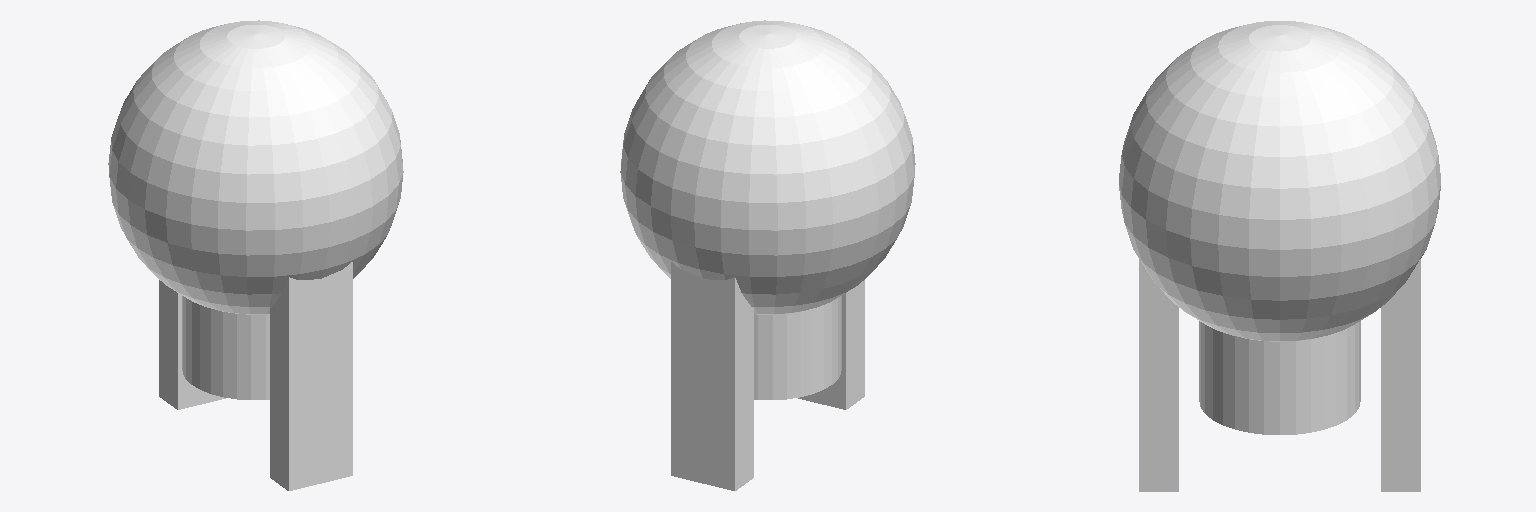
The robot description file, URDF, robot "r2d2":
<robot name="r2d2">

  <link name="axis">
    <visual>
      <origin xyz="0 0 0" rpy="1.57 0 0" />
      <geometry>
        <cylinder radius="0.01" length=".5" />
      </geometry>
      <material name="gray">
        <color rgba=".2 .2 .2 1" />
      </material>
    </visual>

    <collision>
      <origin xyz="0 0 0" rpy="1.57 0 0" />
      <geometry>
        <cylinder radius="0.01" length=".5" />
      </geometry>
      <!-- <contact_coefficients mu="0" kp="1000.0" kd="1.0"/> -->
    </collision>
  </link>

  <link name="leg1">
    <inertial>
      <mass value="1"/>
      <inertia ixx="1e-3" ixy="0" ixz="0" iyy="1e-3" iyz="0" izz="1e-3" />
      <origin/>
    </inertial>

    <visual>
      <origin xyz="0 0 -.3" />
      <geometry>
        <box size=".20 .10 .8" />
      </geometry>
      <material name="white">
        <color rgba="1 1 1 1"/>
      </material>
    </visual>

    <collision>
      <origin xyz="0 0 -.3" />
      <geometry>
        <box size=".20 .10 .8" />
      </geometry>
      <!-- <contact_coefficients mu="0" kp="1000.0" kd="1.0"/> -->
    </collision>
  </link>

  <joint name="leg1connect" type="fixed">
    <origin xyz="0 .30 0" />
    <parent link="axis"/>
    <child link="leg1"/>
  </joint>

  <link name="leg2">
    <inertial>
      <mass value="1"/>
      <inertia ixx="1e-3" ixy="0" ixz="0" iyy="1e-3" iyz="0" izz="1e-3" />
      <origin/>
    </inertial>

    <visual>
      <origin xyz="0 0 -.3" />
      <geometry>
        <box size=".20 .10 .8" />
      </geometry>
      <material name="white">
        <color rgba="1 1 1 1"/>
      </material>
    </visual>

    <collision>
      <origin xyz="0 0 -.3" />
      <geometry>
        <box size=".20 .10 .8" />
      </geometry>
      <!-- <contact_coefficients mu="0" kp="1000.0" kd="1.0"/> -->
    </collision>
  </link>

  <joint name="leg2connect" type="fixed">
    <origin xyz="0 -.30 0" />
    <parent link="axis"/>
    <child link="leg2"/>
  </joint>

  <link name="body">
    <inertial>
      <mass value="1"/>
      <inertia ixx="1e-3" ixy="0" ixz="0" iyy="1e-3" iyz="0" izz="1e-3" />
      <origin/>
    </inertial>

    <visual>
      <origin xyz="0 0 -0.2" />
      <geometry>
        <cylinder radius=".20" length=".6"/>
      </geometry>
      <material name="white"/>
    </visual>

    <collision>
      <origin xyz="0 0 0.2" />
      <geometry>
        <cylinder radius=".20" length=".6"/>
      </geometry>
      <!-- <contact_coefficients mu="0" kp="1000.0" kd="1.0"/> -->
    </collision>
  </link>

  <joint name="tilt" type="revolute">
    <parent link="axis"/>
    <child link="body"/>
    <origin xyz="0 0 0" rpy="0 0 0" />
    <axis xyz="0 1 0" />
    <limit upper="0" lower="-.5" effort="10" velocity="10" />
  </joint>

  <link name="head">
    <inertial>
      <mass value="1"/>
      <inertia ixx="1e-3" ixy="0" ixz="0" iyy="1e-3" iyz="0" izz="1e-3" />
      <origin/>
    </inertial>

    <visual>
      <geometry>
        <sphere radius=".4" />
      </geometry>
      <material name="white" />
    </visual>

    <collision>
      <origin/>
      <geometry>
        <sphere radius=".4" />
      </geometry>
      <!-- <contact_coefficients mu="0" kp="1000.0" kd="1.0"/> -->
    </collision>
  </link>

  <joint name="swivel" type="continuous">
    <origin xyz="0 0 0.1" />
    <axis xyz="0 0 1" />
    <parent link="body"/>
    <child link="head"/>
  </joint>

  <link name="rod">
    <inertial>
      <mass value="1"/>
      <inertia ixx="1e-3" ixy="0" ixz="0" iyy="1e-3" iyz="0" izz="1e-3" />
      <origin/>
    </inertial>

    <visual>
      <origin xyz="0 0 -.1" />
      <geometry>
        <cylinder radius=".02" length=".2" />
      </geometry>
      <material name="gray" />

    </visual>

    <collision>
      <origin/>
      <geometry>
        <cylinder radius=".02" length=".2" />
      </geometry>
      <!-- <contact_coefficients mu="0" kp="1000.0" kd="1.0"/> -->
    </collision>
  </link>

  <joint name="periscope" type="prismatic">
    <origin xyz=".12 0 .15" />
    <axis xyz="0 0 1" />
    <limit upper="0" lower="-.5" effort="10" velocity="10" />
    <parent link="head"/>
    <child link="rod"/>
  </joint>

  <link name="box">
    <inertial>
      <mass value="1"/>
      <inertia ixx="1e-3" ixy="0" ixz="0" iyy="1e-3" iyz="0" izz="1e-3" />
      <origin/>
    </inertial>

    <visual>
      <geometry>
        <box size=".05 .05 .05" />
      </geometry>
      <material name="blue" >
        <color rgba="0 0 1 1" />
      </material>
    </visual>

    <collision>
      <origin/>
      <geometry>
        <box size=".05 .05 .05" />
      </geometry>
      <!-- <contact_coefficients mu="0" kp="1000.0" kd="1.0"/> -->
    </collision>
  </link>

  <joint name="boxconnect" type="fixed">
    <origin xyz="0 0 0" />
    <parent link="rod"/>
    <child link="box"/>
  </joint>

</robot>

--- Render facts (derived) ---
3 views of the same robot in one strip: view 1: azimuth 30°, elevation 25°; view 2: azimuth 150°, elevation 25°; view 3: azimuth 270°, elevation 25° (orthographic).
Model r2d2 with 7 links and 6 joints (1 revolute, 1 continuous, 1 prismatic, 3 fixed), rooted at axis, posed all joints at 0.
Visible links, largest first — view 1: head, leg2, body, leg1; view 2: head, leg1, body, leg2; view 3: head, body, leg1, leg2.
Link boxes in pixels (left/top/right/bottom): head: left=108, top=20, right=403, bottom=314; leg2: left=270, top=262, right=352, bottom=490; body: left=182, top=296, right=269, bottom=399; leg1: left=159, top=280, right=225, bottom=409; head: left=620, top=20, right=915, bottom=314; leg1: left=671, top=262, right=753, bottom=490; body: left=754, top=296, right=841, bottom=399; leg2: left=798, top=280, right=864, bottom=409; head: left=1119, top=21, right=1440, bottom=341; body: left=1199, top=321, right=1360, bottom=434; leg1: left=1381, top=259, right=1420, bottom=491; leg2: left=1139, top=259, right=1178, bottom=491.
Bounding box of the posed robot: 0.8 × 0.8 × 1.2 m (x, y, z).
Geometry: primitives only (box / cylinder / sphere), no mesh files.